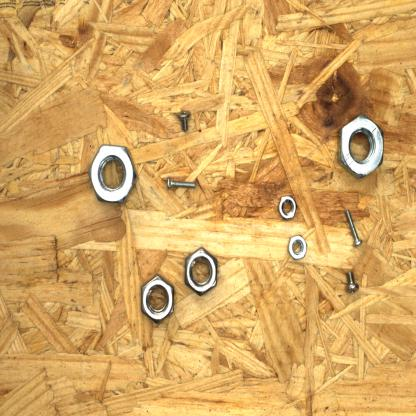screw: (342, 207, 366, 248), (164, 173, 198, 194), (342, 268, 362, 298), (175, 108, 193, 134)
